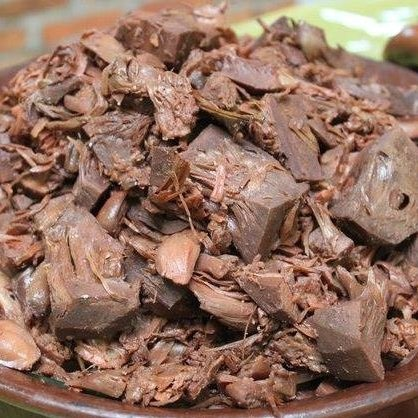gudeg: (4, 10, 413, 407)
